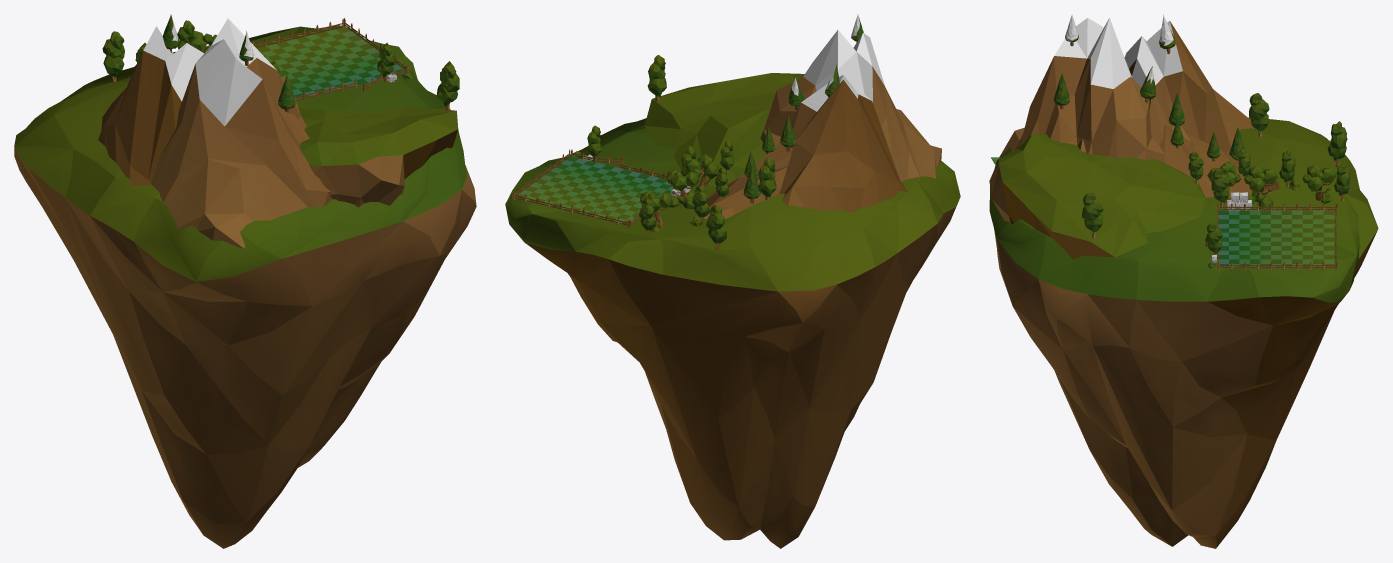
3 views of the same model, side by side, from view 1: azimuth 30°, elevation 25°; view 2: azimuth 150°, elevation 25°; view 3: azimuth 270°, elevation 25° (orthographic). The views are drawn at different scales.
Visible parts, largest first — view 1: rock_1, 4seasons_mountain1, 4seasons_mountain006, 4seasons_mountain2, plane_map, leaves009, leaves001; view 2: rock_1, 4seasons_mountain2, 4seasons_mountain006, 4seasons_mountain1, plane_map, 4seasons_mountain003, leaves001, 4seasons_tree_oak, leaves009, 4seasons_tree_oak002, leaves005; view 3: rock_1, 4seasons_mountain006, 4seasons_mountain1, 4seasons_mountain2, plane_map, 4seasons_mountain003, 4seasons_tree_oak003, leaves001, 4seasons_tree_oak002, leaves005, leaves009, leaves003.
Part boxes in pixels (x1=…): rock_1: x1=14, y1=25, x2=476, y2=548; 4seasons_mountain1: x1=151, y1=18, x2=332, y2=253; 4seasons_mountain006: x1=298, y1=106, x2=458, y2=207; 4seasons_mountain2: x1=98, y1=26, x2=203, y2=185; plane_map: x1=257, y1=27, x2=406, y2=99; leaves009: x1=102, y1=31, x2=124, y2=82; leaves001: x1=437, y1=61, x2=459, y2=110; rock_1: x1=505, y1=118, x2=960, y2=548; 4seasons_mountain2: x1=774, y1=75, x2=907, y2=212; 4seasons_mountain006: x1=644, y1=73, x2=804, y2=186; 4seasons_mountain1: x1=760, y1=30, x2=941, y2=181; plane_map: x1=515, y1=156, x2=672, y2=224; 4seasons_mountain003: x1=696, y1=143, x2=787, y2=219; leaves001: x1=647, y1=55, x2=666, y2=101; 4seasons_tree_oak: x1=685, y1=154, x2=718, y2=187; leaves009: x1=706, y1=205, x2=726, y2=250; 4seasons_tree_oak002: x1=666, y1=170, x2=699, y2=201; leaves005: x1=758, y1=157, x2=776, y2=199; rock_1: x1=989, y1=117, x2=1378, y2=548; 4seasons_mountain006: x1=989, y1=134, x2=1207, y2=259; 4seasons_mountain1: x1=991, y1=18, x2=1164, y2=165; 4seasons_mountain2: x1=1124, y1=20, x2=1254, y2=154; plane_map: x1=1218, y1=210, x2=1334, y2=267; 4seasons_mountain003: x1=1077, y1=124, x2=1279, y2=197; 4seasons_tree_oak003: x1=1302, y1=165, x2=1336, y2=200; leaves001: x1=1082, y1=192, x2=1103, y2=238; 4seasons_tree_oak002: x1=1244, y1=166, x2=1278, y2=195; leaves005: x1=1249, y1=93, x2=1269, y2=137; leaves009: x1=1327, y1=121, x2=1347, y2=167; leaves003: x1=1211, y1=168, x2=1229, y2=208.
Size of the model in its own units: 3939 by 5436 by 3695.
